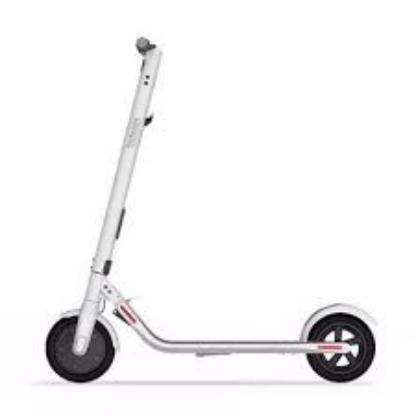bike: (45, 31, 413, 387)
car: (44, 31, 409, 387)
